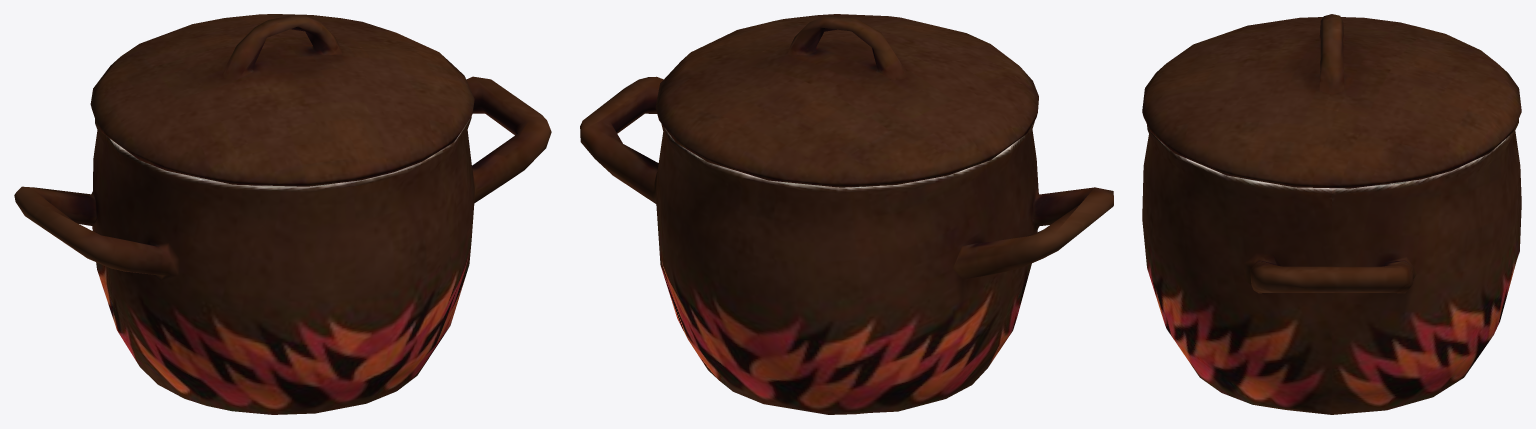
File: pot_enamel_01.glb
3 views of the same model, side by side, from view 1: azimuth 30°, elevation 25°; view 2: azimuth 150°, elevation 25°; view 3: azimuth 270°, elevation 25° (orthographic).
Parts seen in each view (by area): view 1: pot_enamel_01_base, pot_enamel_01_lid; view 2: pot_enamel_01_base, pot_enamel_01_lid; view 3: pot_enamel_01_base, pot_enamel_01_lid.
Part boxes in pixels (bbox=[...]): pot_enamel_01_base: bbox=[14, 76, 551, 414]; pot_enamel_01_lid: bbox=[90, 14, 474, 186]; pot_enamel_01_base: bbox=[580, 76, 1113, 414]; pot_enamel_01_lid: bbox=[655, 14, 1038, 187]; pot_enamel_01_base: bbox=[1142, 119, 1521, 414]; pot_enamel_01_lid: bbox=[1142, 14, 1521, 188].
Size of the model in its own units: 0.2621 by 0.1773 by 0.1796.
1 material, 1 textured.
